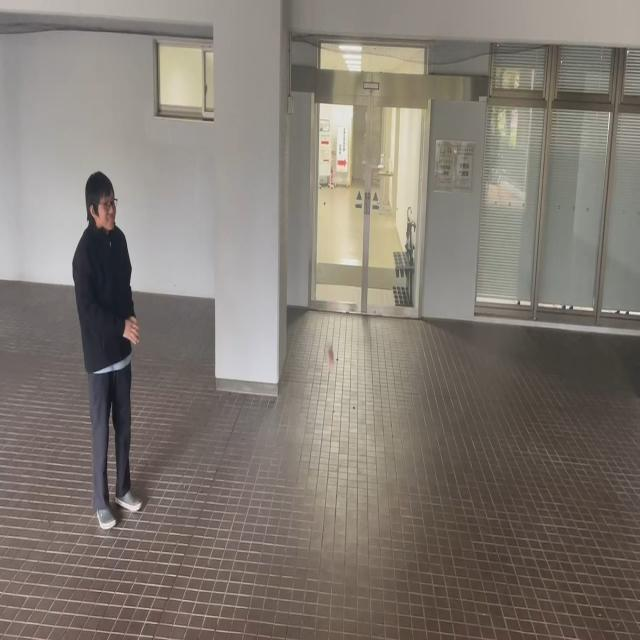paper: (328, 346, 334, 368)
